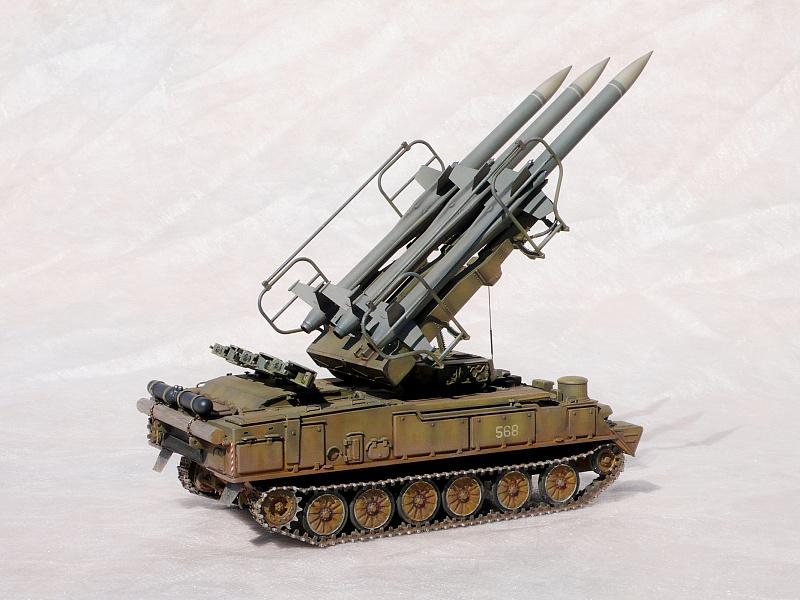armored_car: (133, 44, 664, 548)
